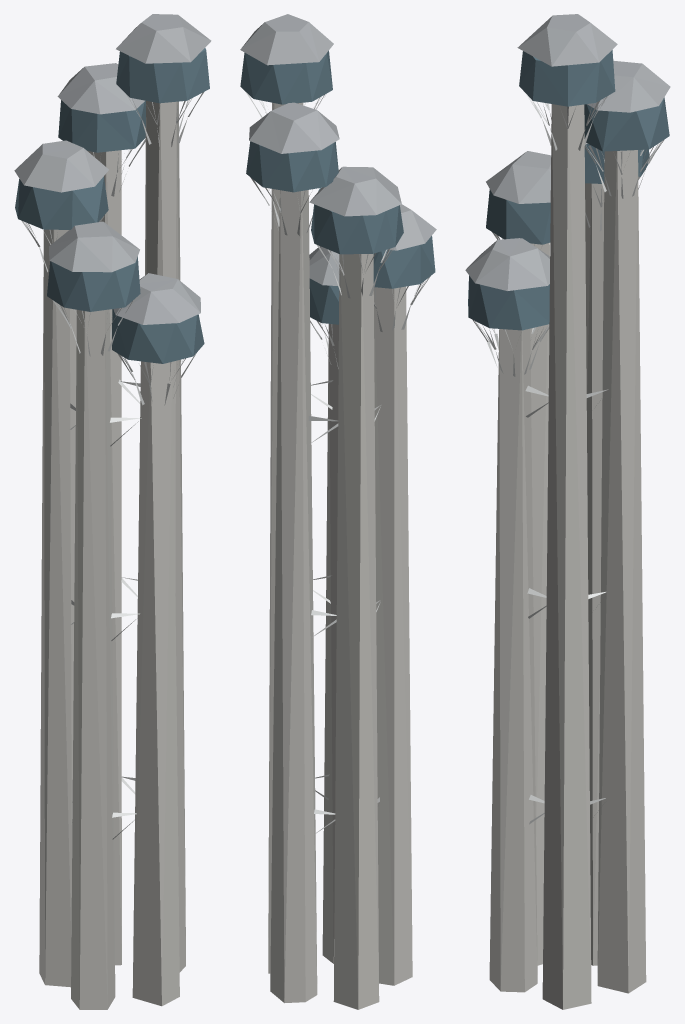
Rendered from olympic-tower-far-ff4c0c4609.glb.
3 renders of one model, left to right at view 1: azimuth 30°, elevation 25°; view 2: azimuth 150°, elevation 25°; view 3: azimuth 270°, elevation 25°, orthographic. The views are drawn at different scales.
Visible parts, largest first — view 1: olympic-tower coarse.001; view 2: olympic-tower coarse.001; view 3: olympic-tower coarse.001.
Boxes of the visible parts, x1,y1,x2,y2 form: olympic-tower coarse.001: (14, 14, 211, 1009); olympic-tower coarse.001: (240, 14, 436, 1009); olympic-tower coarse.001: (465, 14, 670, 1009).
Size of the model in its own units: 45.93 by 247 by 47.03.
